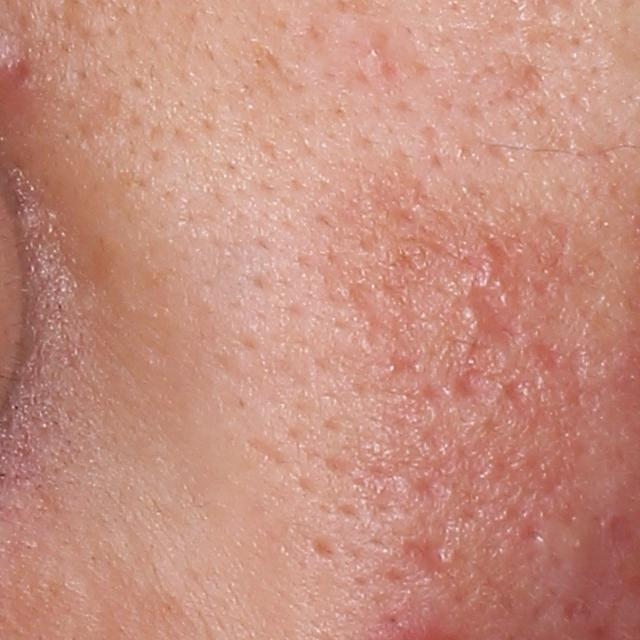atrophic_scar: (397, 534, 467, 580), (237, 434, 291, 469), (452, 366, 483, 401)
